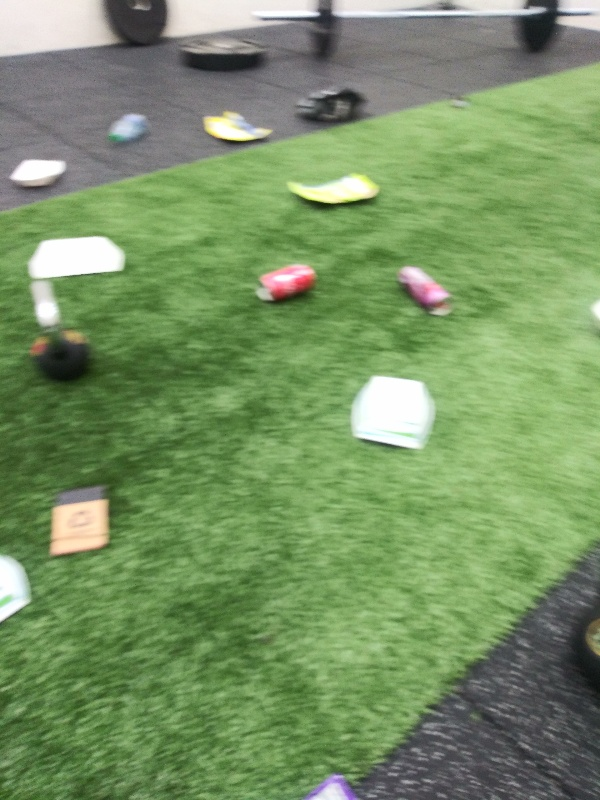bag: (281, 169, 381, 208), (197, 109, 277, 147), (282, 768, 371, 800)
bottle: (104, 109, 153, 147)
can: (395, 262, 455, 321), (250, 258, 323, 306)
plate: (345, 374, 441, 458), (21, 230, 131, 284), (1, 553, 34, 630), (9, 157, 72, 191), (587, 295, 600, 330)
